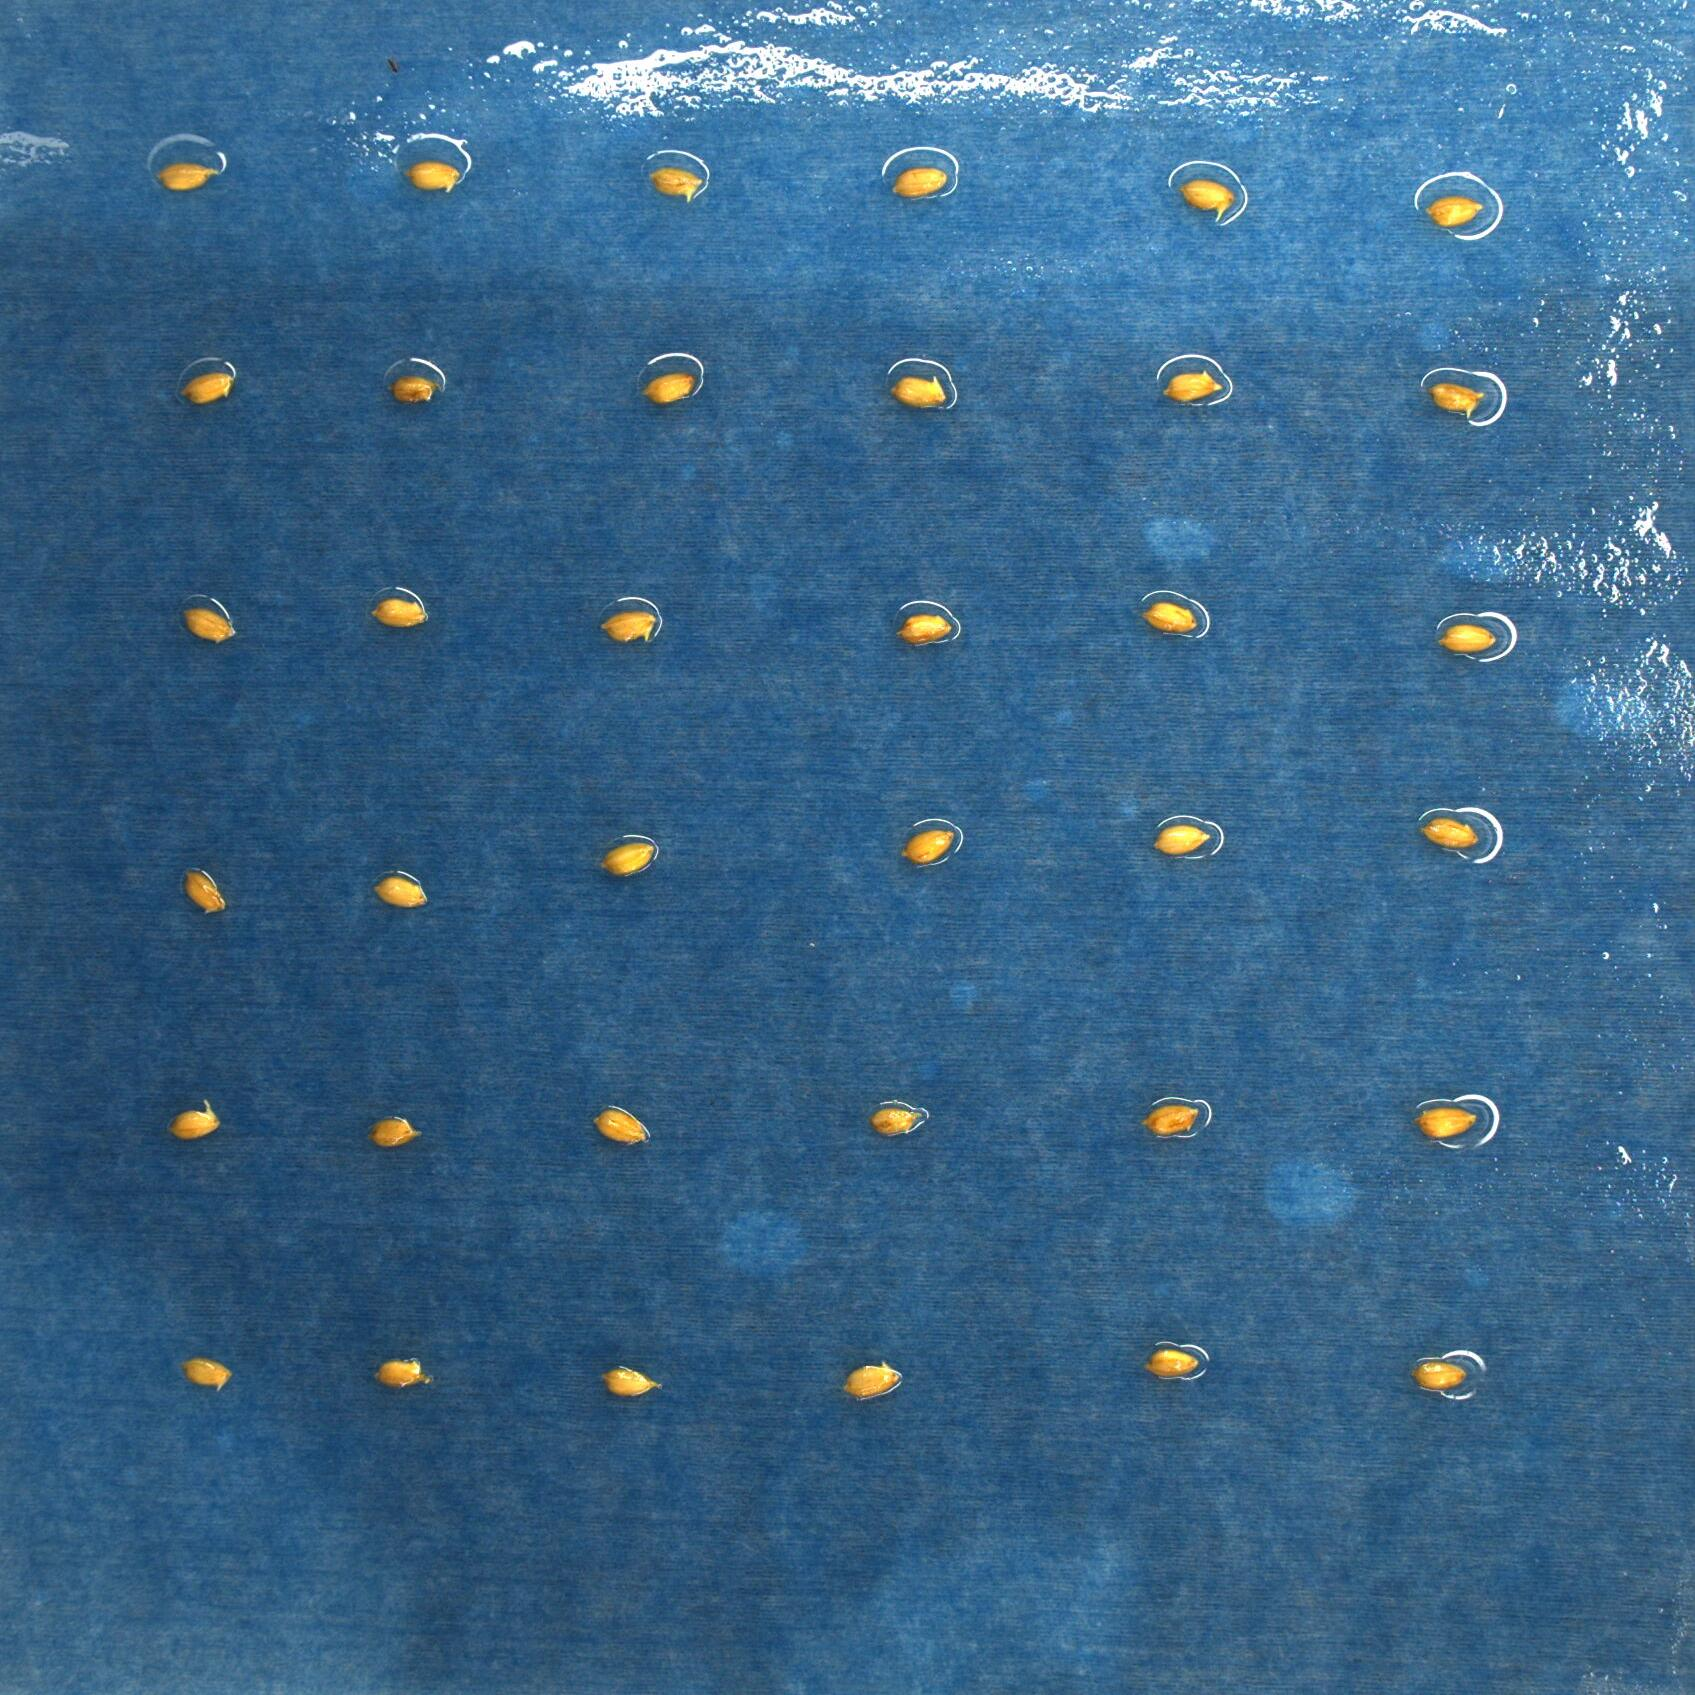not sprout: (837, 1358, 903, 1402), (1170, 179, 1232, 220), (1423, 377, 1489, 414), (640, 166, 703, 203), (598, 840, 657, 879), (591, 1107, 650, 1146), (899, 827, 955, 868), (871, 1102, 927, 1142), (179, 869, 227, 916), (882, 168, 950, 200), (1135, 1101, 1201, 1133), (885, 371, 948, 405), (1149, 820, 1212, 854), (1426, 192, 1487, 228), (373, 1357, 433, 1392), (1437, 619, 1495, 657), (168, 1097, 220, 1138), (598, 607, 657, 643), (893, 612, 951, 647), (1420, 820, 1479, 855), (1153, 373, 1228, 400), (1144, 601, 1198, 638), (365, 1114, 424, 1149), (399, 161, 463, 192), (602, 1364, 664, 1395), (179, 371, 234, 405), (161, 160, 220, 191), (1416, 1108, 1478, 1138), (365, 598, 425, 627), (1414, 1361, 1471, 1392), (640, 373, 702, 400), (179, 607, 234, 638), (1146, 1349, 1198, 1381), (373, 875, 425, 906), (183, 1360, 231, 1391), (390, 376, 439, 405)
